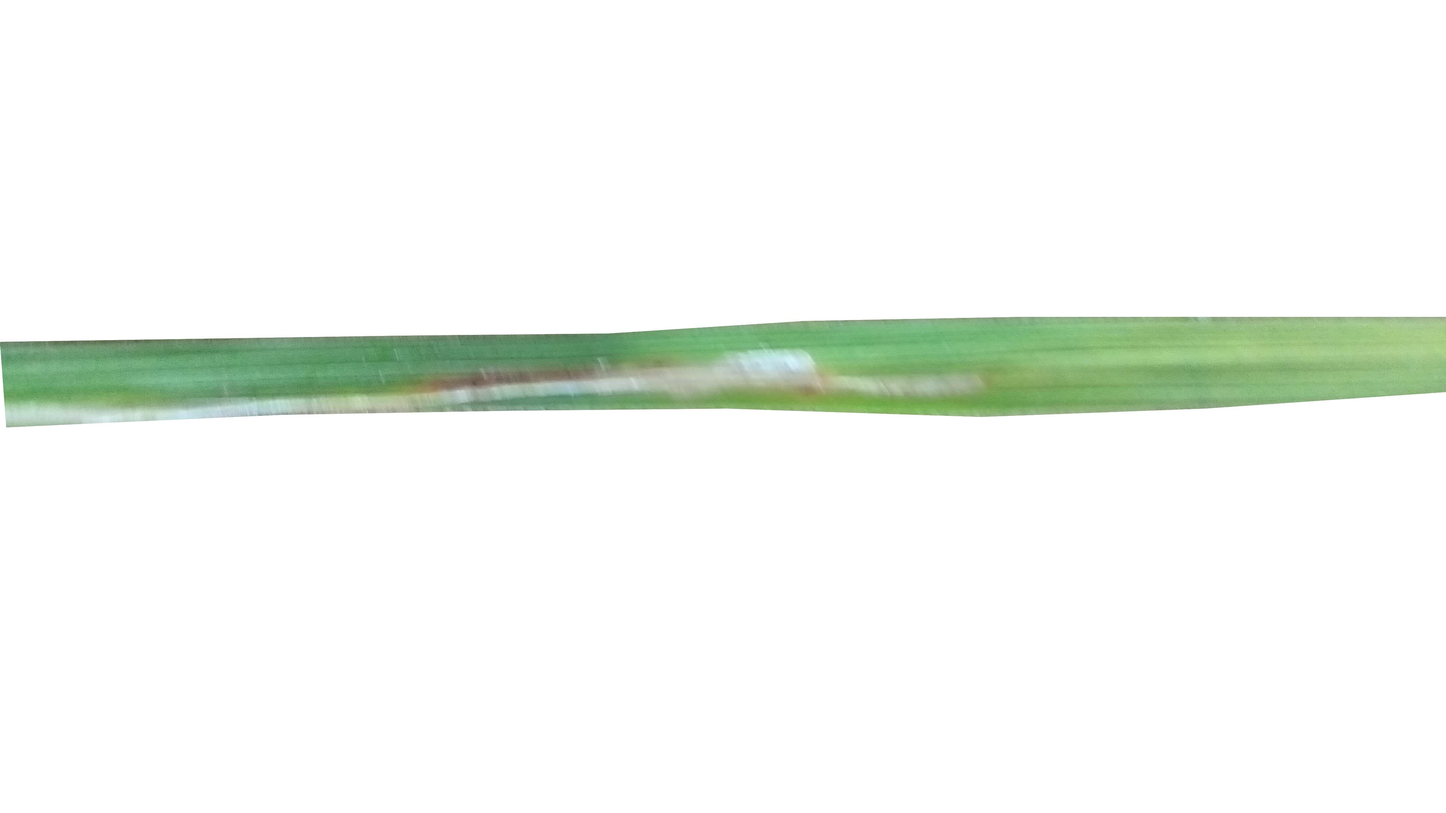Blight: (577, 349, 1015, 405), (332, 360, 624, 413), (7, 393, 339, 413)
